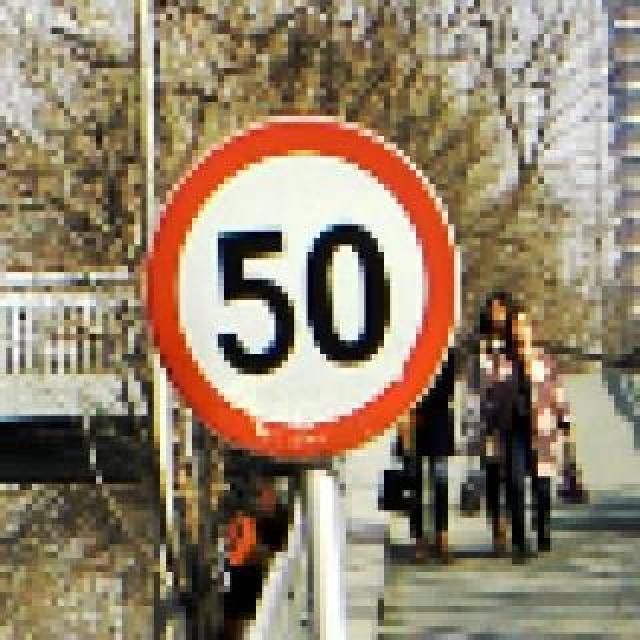50 kph: (142, 110, 454, 450)
